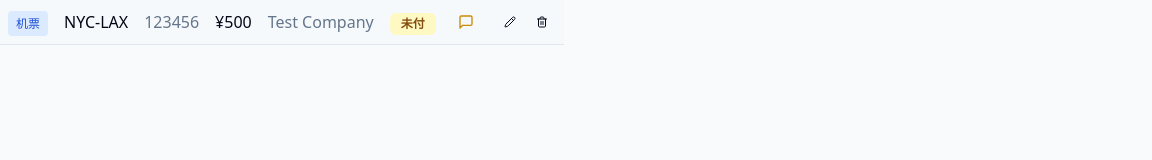
Scenario: OrderItemRow - Payment Status Feature › Edit Mode - Payment Checkbox › should show checkbox in edit mode
The image size is (1152, 160).
Click the 2nd button at (510, 22), box [496,8,524,36]
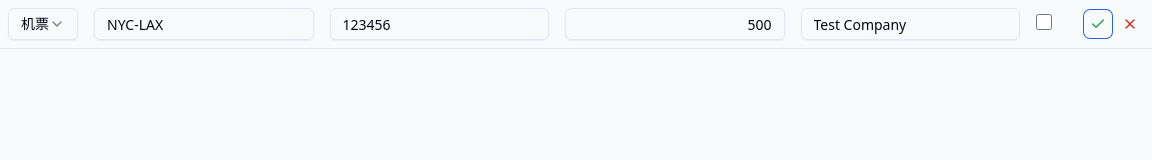
Now the checkbox is shown, box [1036,14,1052,30]
